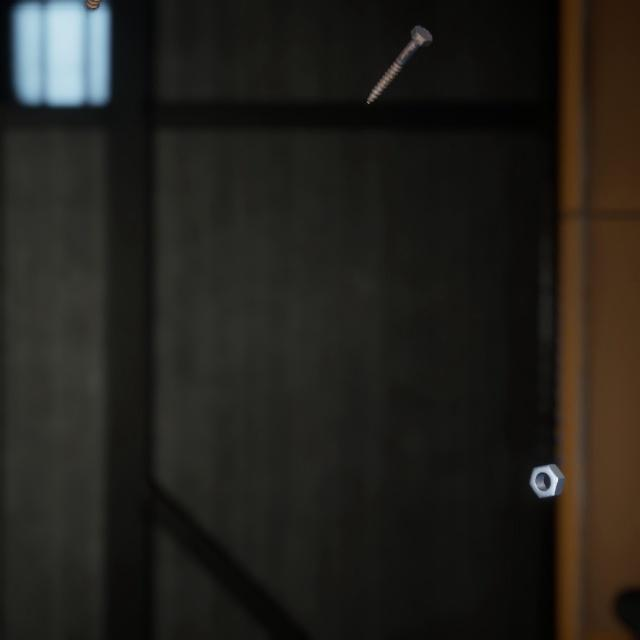bolt: (362, 12, 436, 98)
nut: (524, 438, 569, 481)
